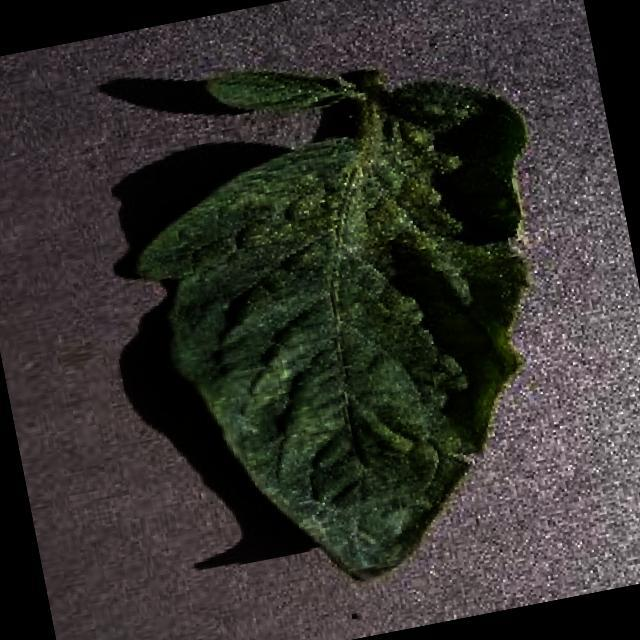Tomato spider mites leaf: (113, 66, 602, 614)
